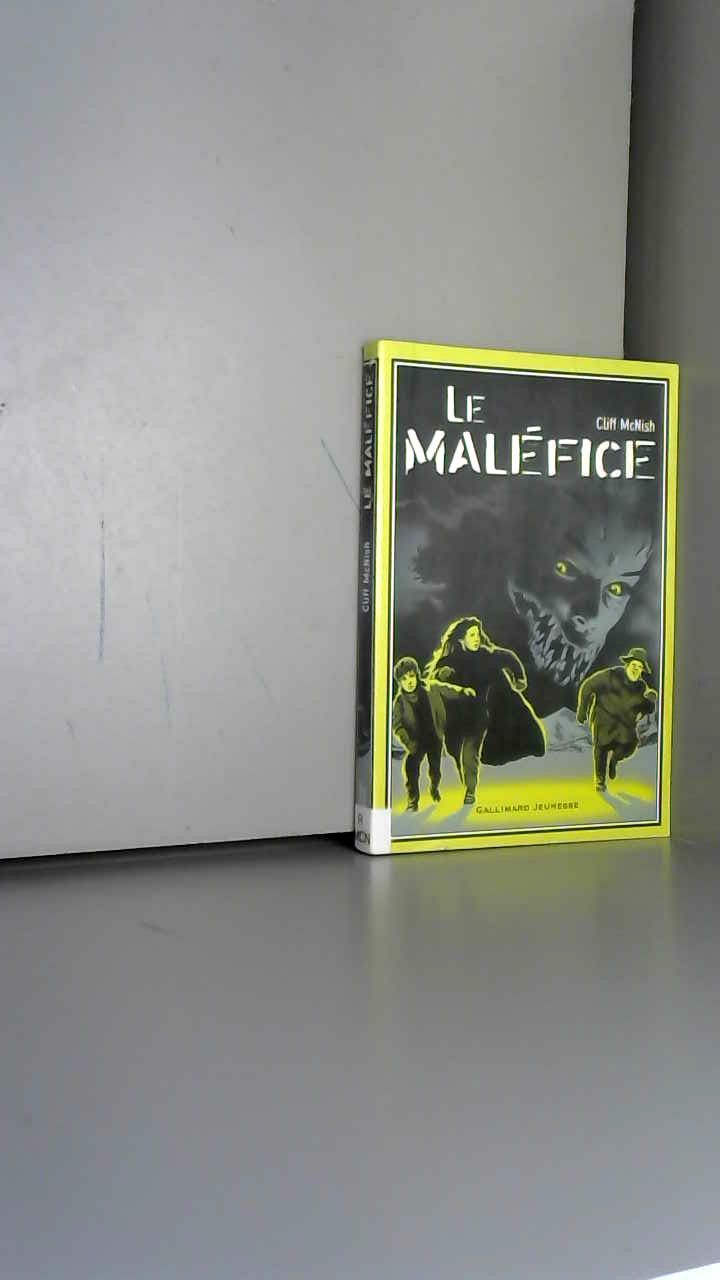book: (330, 320, 720, 934)
